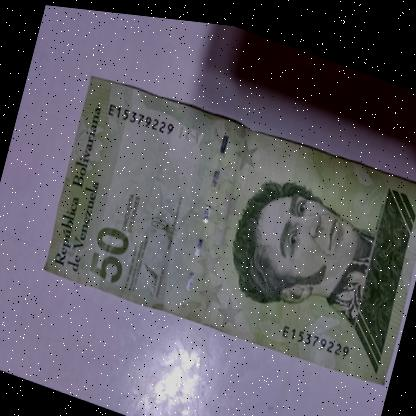fifty-front-vef: (42, 60, 416, 384)
